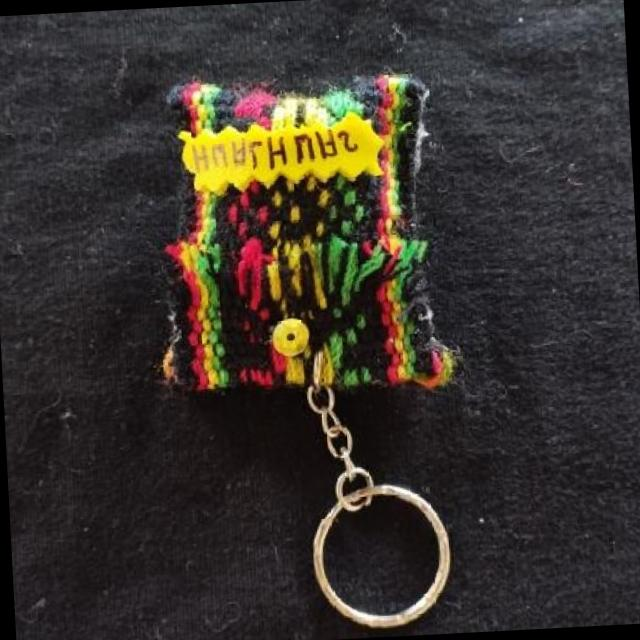Llavero: (144, 66, 459, 406)
